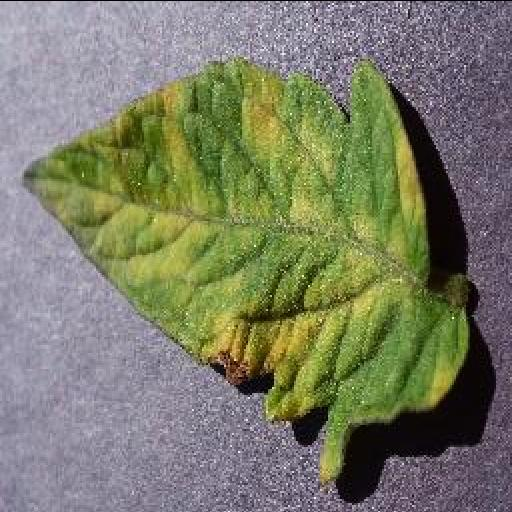disease_tomato: (19, 60, 473, 476)
